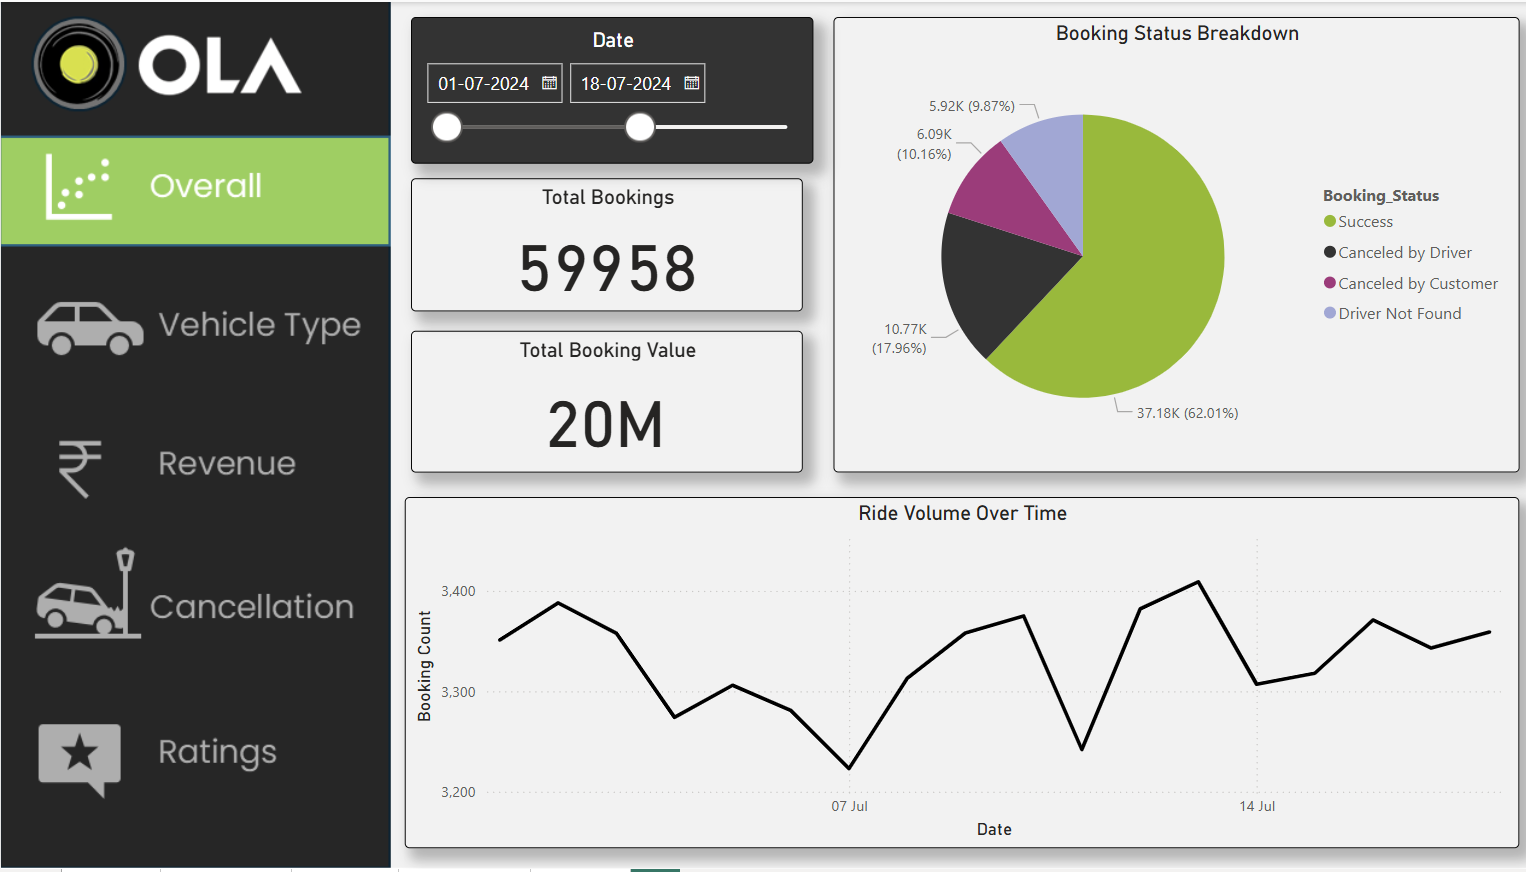

Layout of this report page (visuals, bound fields, positions):
{"tool":"powerbi","page":{"name":"Overall","canvas":[1280,720],"ordinal":0},"visuals":[{"type":"actionButton","box":[0,222.2,324.9,91.6],"z":0},{"type":"actionButton","box":[10,232.2,324.9,91.6],"z":1000},{"type":"actionButton","box":[0,343.9,324.9,91.6],"z":2000},{"type":"actionButton","box":[0,452.2,324.9,91.6],"z":3000},{"type":"actionButton","box":[0,576.2,324.9,91.6],"z":4000},{"type":"lineChart","title":"Ride Volume Over Time","fields":{"Category":["Bookings.Date"],"Y":["CountNonNull(Bookings.Booking_ID)"]},"box":[335,410,923.8,291.2],"z":5000},{"type":"pieChart","title":"Booking Status Breakdown","fields":{"Category":["Bookings.Booking_Status"],"Y":["CountNonNull(Bookings.Booking_Status)"]},"box":[690,12.5,568.8,377.5],"z":6000},{"type":"slicer","title":"Date","fields":{"Values":["Bookings.Date"]},"box":[340,12.5,333.8,121.2],"z":7000},{"type":"card","title":"Total Bookings","fields":{"Values":["CountNonNull(Bookings.Booking_ID)"]},"box":[340,146.2,325,110],"z":8000},{"type":"card","title":"Total Booking Value","fields":{"Values":["Sum(Bookings.Booking_Value)"]},"box":[340,272.5,325,117.5],"z":9000}]}

Visuals, with their boxes in screenshot pixels (x1, y1, x2, y2), scaled from the page's 1280x720 canvas onto the 1526x872 screenshot:
actionButton: BBox(0, 269, 387, 380)
actionButton: BBox(12, 281, 399, 392)
actionButton: BBox(0, 417, 387, 527)
actionButton: BBox(0, 548, 387, 659)
actionButton: BBox(0, 698, 387, 809)
"Ride Volume Over Time" lineChart: BBox(399, 497, 1501, 849)
"Booking Status Breakdown" pieChart: BBox(823, 15, 1501, 472)
"Date" slicer: BBox(405, 15, 803, 162)
"Total Bookings" card: BBox(405, 177, 793, 310)
"Total Booking Value" card: BBox(405, 330, 793, 472)
